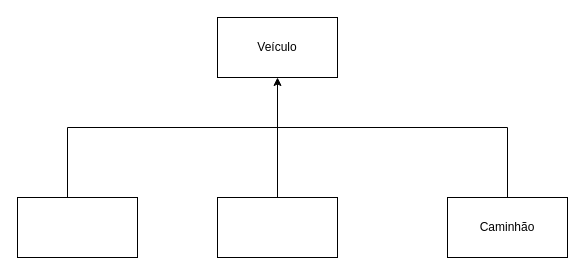
This 585x275 diagram has some shape labels left out. The centre of each missing label's shape, as x and y in pixels:
"Carro" belongs at (x=277, y=227).
"Motocicleta" belongs at (x=77, y=227).
